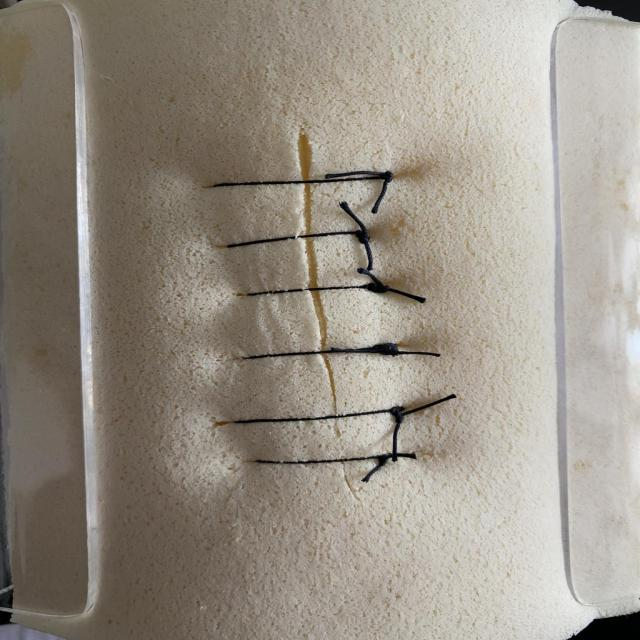knot: (372, 343, 398, 355), (362, 284, 388, 293), (390, 407, 404, 423), (355, 231, 371, 244), (378, 453, 392, 465), (379, 171, 394, 182)
leftover: (393, 394, 458, 416), (339, 200, 371, 237), (372, 175, 395, 215), (382, 284, 427, 304), (362, 456, 385, 483), (393, 345, 443, 357), (355, 266, 381, 287), (322, 172, 395, 178), (393, 408, 400, 463), (363, 233, 372, 272), (328, 346, 385, 352), (381, 454, 418, 459)
stitch: (233, 407, 406, 424), (225, 231, 371, 248), (209, 175, 395, 188), (244, 345, 399, 360), (244, 284, 390, 296), (253, 454, 392, 463)
wound: (299, 126, 360, 504)
